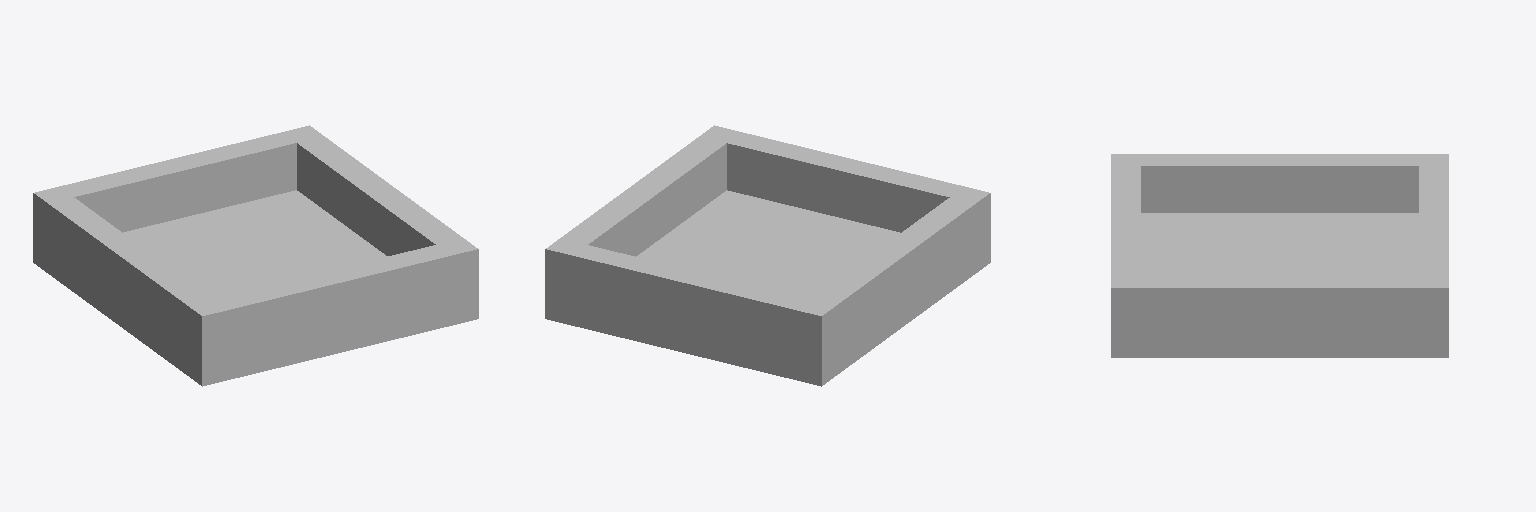
The model's file is table.obj.
The picture shows the model from 3 angles: view 1: azimuth 30°, elevation 25°; view 2: azimuth 150°, elevation 25°; view 3: azimuth 270°, elevation 25°; orthographic projection.
Visible parts, largest first — view 1: Cube; view 2: Cube; view 3: Cube.
Part boxes in pixels (left/top/right/bottom): Cube: left=33, top=125, right=478, bottom=386; Cube: left=545, top=125, right=990, bottom=386; Cube: left=1111, top=154, right=1448, bottom=357.
Size of the model in its own units: 4.58 by 1.11 by 4.85.